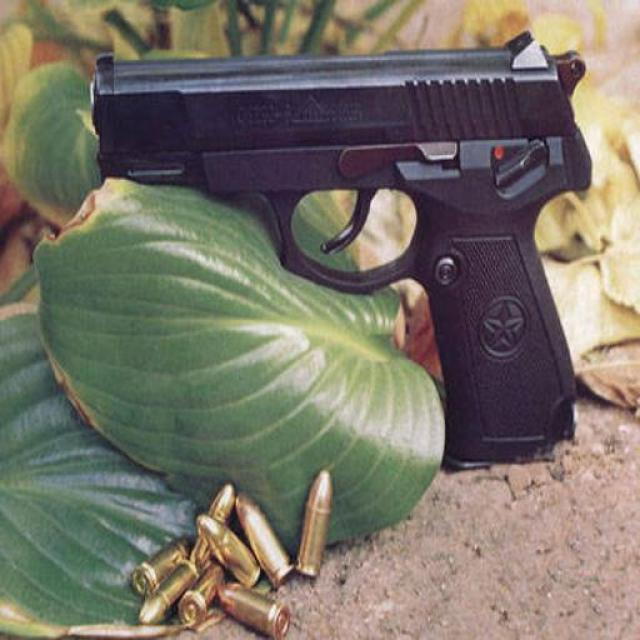pistol: (89, 29, 593, 471)
